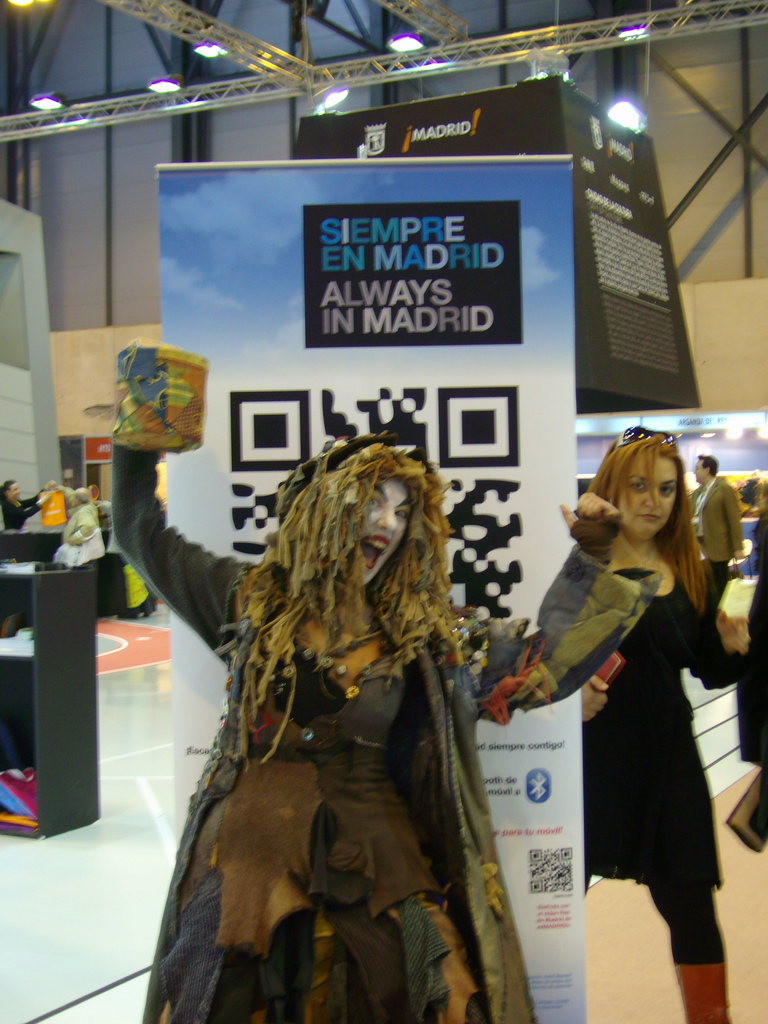QR-CODE: (230, 386, 521, 617), (530, 847, 573, 892)
